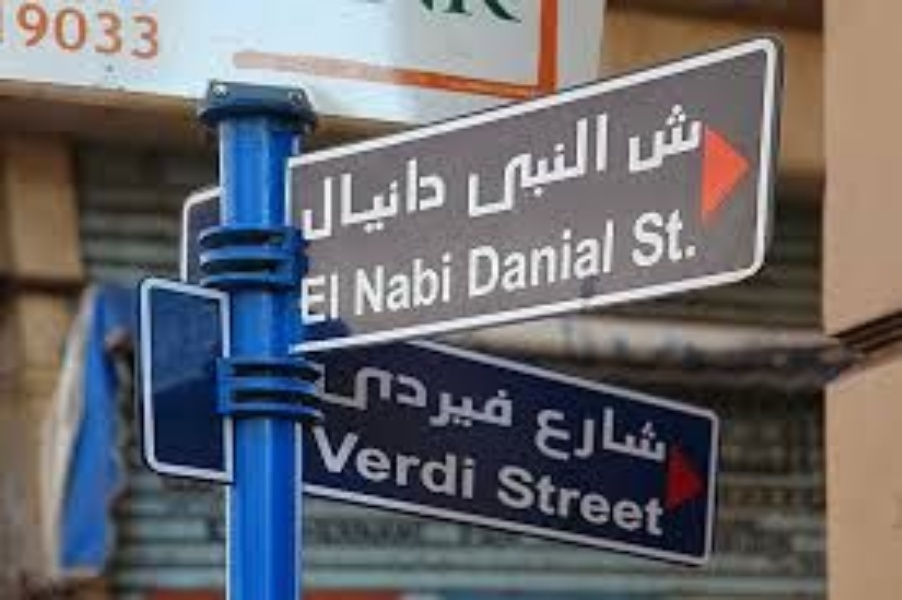text: (465, 105, 480, 223), (481, 105, 496, 223), (497, 105, 512, 223), (513, 105, 528, 223), (529, 105, 544, 223), (545, 105, 560, 223), (561, 105, 576, 223), (577, 105, 592, 223), (593, 105, 608, 223), (305, 151, 320, 250), (321, 151, 336, 250), (337, 151, 352, 250), (353, 151, 368, 250), (369, 151, 384, 250), (385, 151, 400, 250), (401, 151, 416, 250), (417, 151, 432, 250), (433, 151, 448, 250), (321, 351, 336, 440), (337, 351, 352, 440), (353, 351, 368, 440), (369, 351, 384, 440), (385, 351, 400, 440), (401, 351, 416, 440), (417, 351, 432, 440), (433, 351, 448, 440), (449, 351, 464, 440), (465, 351, 480, 440), (481, 351, 496, 440), (497, 351, 512, 440), (641, 96, 656, 184), (657, 96, 672, 184), (673, 96, 688, 184), (689, 96, 704, 184), (465, 214, 480, 302), (481, 214, 496, 302), (497, 214, 512, 302), (513, 214, 528, 302), (529, 214, 544, 302), (545, 214, 560, 302), (561, 214, 576, 302), (577, 214, 592, 302), (593, 214, 608, 302), (497, 456, 512, 541), (513, 456, 528, 541), (529, 456, 544, 541), (545, 456, 560, 541), (561, 456, 576, 541), (577, 456, 592, 541), (593, 456, 608, 541), (609, 456, 624, 541), (625, 456, 640, 541), (641, 456, 656, 541), (321, 423, 336, 505), (337, 423, 352, 505), (353, 423, 368, 505), (369, 423, 384, 505), (385, 423, 400, 505), (401, 423, 416, 505), (417, 423, 432, 505), (433, 423, 448, 505), (449, 423, 464, 505), (465, 423, 480, 505), (657, 397, 673, 473), (627, 96, 640, 184), (353, 246, 368, 322), (369, 246, 384, 322), (385, 246, 400, 322), (401, 246, 416, 322), (417, 246, 432, 322), (433, 246, 448, 322), (545, 397, 560, 473), (561, 397, 576, 473), (577, 397, 592, 473), (593, 397, 608, 473), (609, 397, 624, 473), (625, 397, 640, 473), (641, 397, 656, 473), (657, 456, 670, 541), (609, 214, 620, 302), (17, 1, 32, 63), (33, 1, 48, 63), (49, 1, 64, 63), (65, 1, 80, 63), (81, 1, 96, 63), (97, 1, 112, 63), (113, 1, 128, 63), (129, 1, 144, 63), (145, 1, 160, 63), (641, 207, 656, 269), (657, 207, 672, 269), (673, 207, 688, 269), (309, 423, 320, 505), (305, 269, 320, 328), (321, 269, 336, 328), (535, 397, 544, 473), (630, 207, 640, 269), (689, 207, 699, 269), (609, 105, 614, 223), (449, 246, 456, 322), (299, 151, 304, 250), (296, 269, 304, 328), (315, 351, 320, 440), (337, 269, 342, 328), (161, 1, 165, 63), (513, 351, 515, 440), (481, 423, 483, 505), (14, 1, 16, 63), (463, 105, 464, 223), (449, 151, 450, 250), (705, 96, 706, 184), (463, 214, 464, 302), (351, 246, 352, 322)
